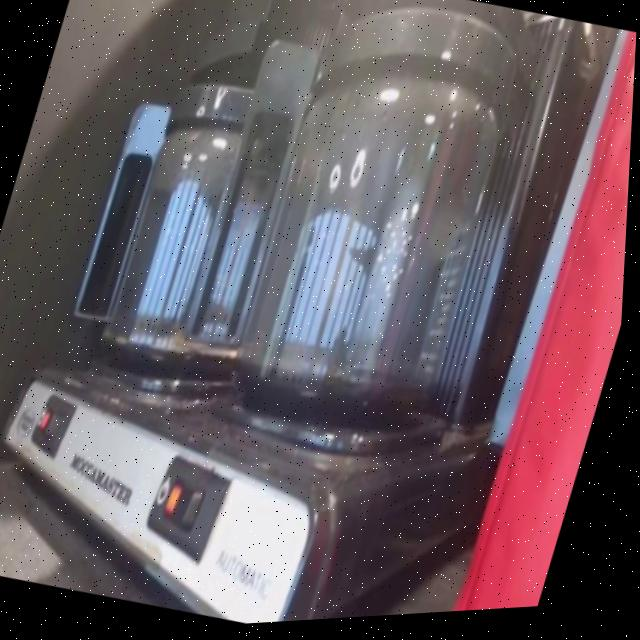nocoffee: (216, 0, 549, 462), (86, 42, 347, 405)
